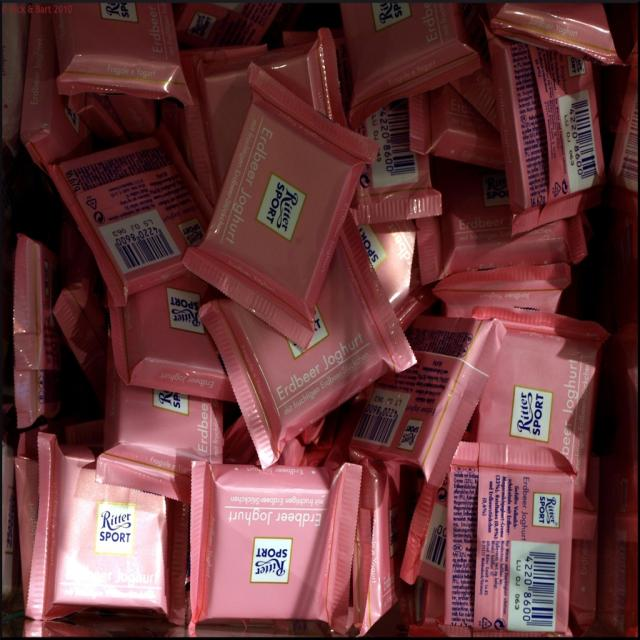rittersport: (258, 175, 307, 241), (512, 385, 554, 444), (95, 502, 138, 558), (165, 286, 206, 337), (252, 537, 294, 586), (357, 222, 390, 273), (150, 387, 194, 421), (373, 2, 414, 31), (534, 493, 563, 530), (100, 2, 139, 24), (180, 219, 207, 250), (399, 419, 424, 452)
